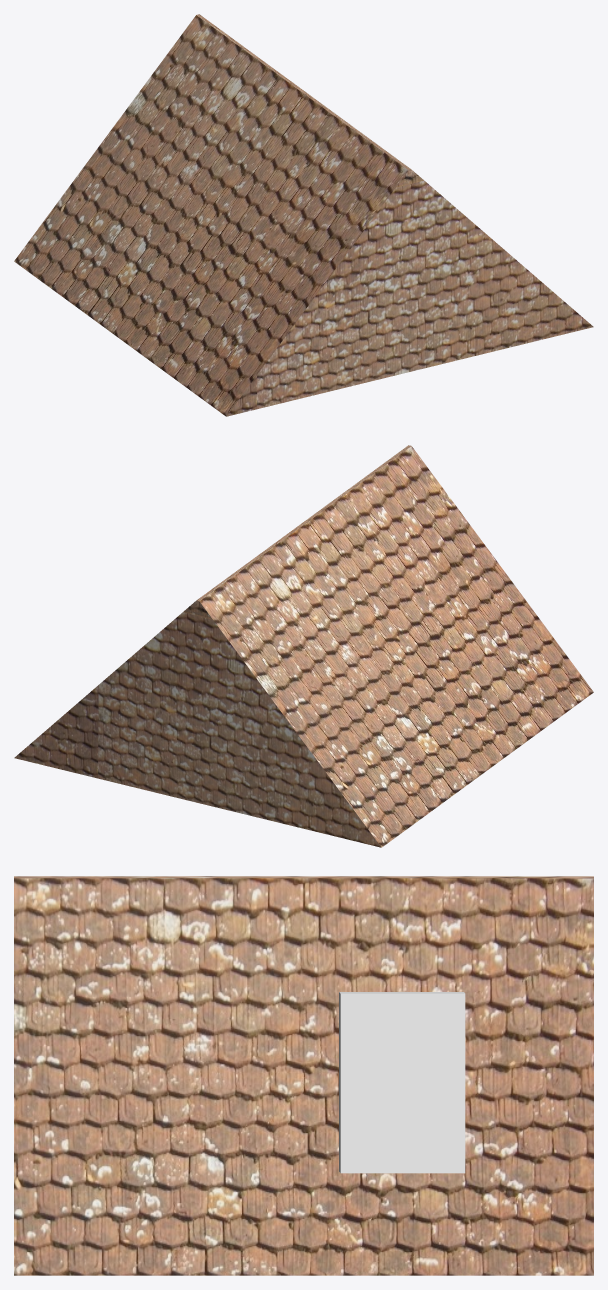
File: Roof.fbx
The picture shows the model from 3 angles, top to bottom: view 1: azimuth 30°, elevation 25°; view 2: azimuth 150°, elevation 25°; view 3: azimuth 270°, elevation 25°; orthographic projection. The views are drawn at different scales.
Parts seen in each view (by area): view 1: Cube; view 2: Cube; view 3: Cube, Cube.001.
Part boxes in pixels (x1,y1,x2,y2): Cube: (14,14,593,416); Cube: (14,445,593,847); Cube: (14,876,593,1275); Cube.001: (339,992,465,1173).
Size of the model in its own units: 929 by 487 by 929.
